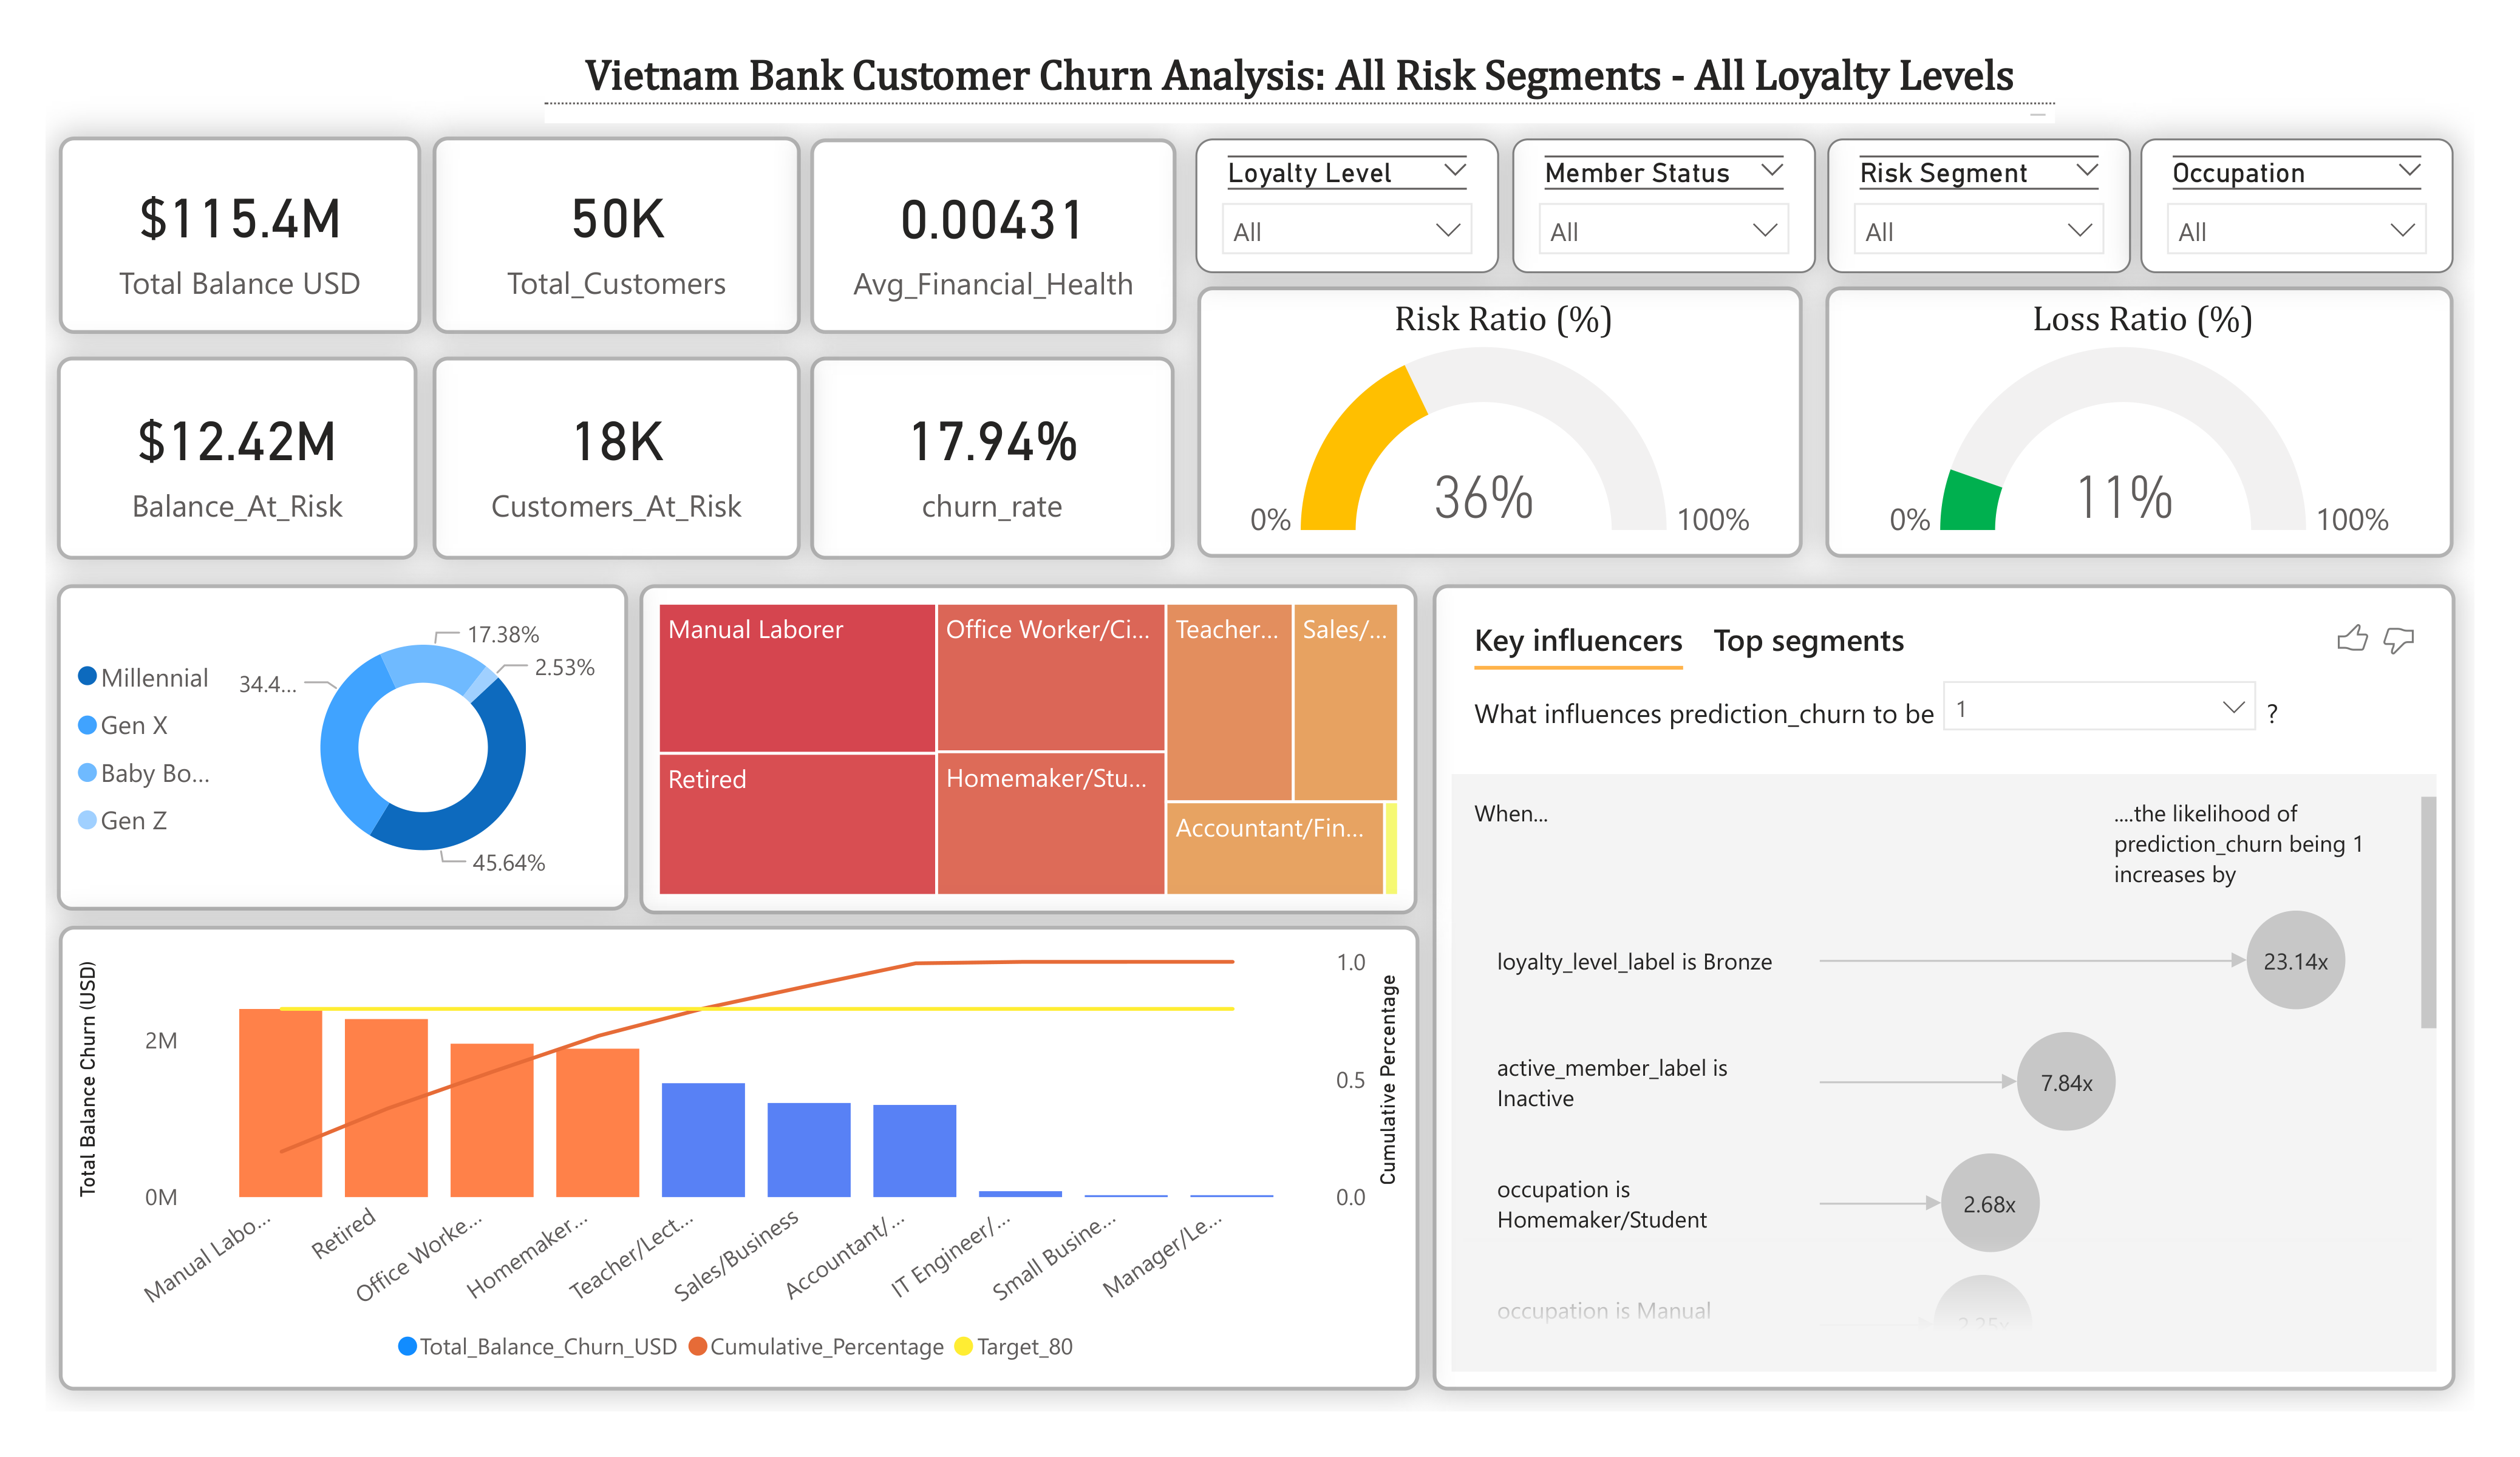

What the dashboard file says about the page in this screenshot:
{"tool":"powerbi","page":{"name":"Page 1","canvas":[1280,720],"ordinal":0},"visuals":[{"type":"card","fields":{"Values":["vietnam_bank_churn_prediction.churn_rate"]},"box":[403.1,164.4,191.9,106.2],"z":0},{"type":"card","fields":{"Values":["vietnam_bank_churn_prediction.High Priority Churn"]},"box":[204.4,48.1,193.1,103.8],"z":1000},{"type":"card","fields":{"Values":["vietnam_bank_churn_prediction.Total Balance USD"]},"box":[6.9,48.1,191.2,103.8],"z":2000},{"type":"card","fields":{"Values":["vietnam_bank_churn_prediction.Avg_Financial_Health"]},"box":[403.1,49.4,192.5,102.5],"z":3000},{"type":"card","fields":{"Values":["vietnam_bank_churn_prediction.Customers_At_Risk"]},"box":[204.4,164.4,193.1,106.2],"z":4000},{"type":"card","fields":{"Values":["vietnam_bank_churn_prediction.Balance_At_Risk"]},"box":[6.2,164.4,190,106.2],"z":5000},{"type":"gauge","title":"Loss Ratio (%)","fields":{"Y":["vietnam_bank_churn_prediction.Loss_Impact_Rate"]},"box":[938.3,126.7,330.8,143.3],"z":6000},{"type":"gauge","title":"Risk Ratio (%)","fields":{"Y":["vietnam_bank_churn_prediction.Risk_Ratio"]},"box":[606.9,126.9,319.2,143.1],"z":7000},{"type":"slicer","fields":{"Values":["vietnam_bank_churn_prediction.risk_segment_label"]},"box":[938.6,49.3,160,70.7],"z":8000},{"type":"slicer","fields":{"Values":["vietnam_bank_churn_prediction.active_member_label"]},"box":[772.9,49.3,160,70.7],"z":9000},{"type":"slicer","fields":{"Values":["vietnam_bank_churn_prediction.loyalty_level_label"]},"box":[606.4,49.3,160,70.7],"z":10000},{"type":"slicer","fields":{"Values":["vietnam_bank_churn_prediction.occupation"]},"box":[1104.3,49.3,164.3,70.7],"z":11000},{"type":"textbox","box":[262.5,2.5,796.2,38.8],"z":12000},{"type":"keyDriversVisual","fields":{"ExplainBy":["vietnam_bank_churn_prediction.recency_days","vietnam_bank_churn_prediction.financial_stability_index","vietnam_bank_churn_prediction.active_member_label","vietnam_bank_churn_prediction.occupation","vietnam_bank_churn_prediction.loyalty_level_label"],"Target":["vietnam_bank_churn_prediction.prediction_churn"]},"box":[731,284,539,425],"z":13000},{"type":"treemap","fields":{"Values":["vietnam_bank_churn_prediction.Balance_At_Risk"],"Group":["vietnam_bank_churn_prediction.occupation"]},"box":[313.3,284.4,410,173.3],"z":14000},{"type":"donutChart","fields":{"Category":["vietnam_bank_churn_prediction.age_group"],"Y":["vietnam_bank_churn_prediction.Customers_At_Risk"]},"box":[6.4,284.3,300.7,172.1],"z":15000},{"type":"lineClusteredColumnComboChart","fields":{"Category":["vietnam_bank_churn_prediction.occupation"],"Y":["vietnam_bank_churn_prediction.Total_Balance_Churn_USD"],"Y2":["vietnam_bank_churn_prediction.Cumulative_Percentage","vietnam_bank_churn_prediction.Target_80"]},"box":[7.3,464,716.7,244.7],"z":16000}]}

Visuals, with their boxes in screenshot pixels (x1, y1, x2, y2):
card - vietnam_bank_churn_prediction.churn_rate: (814, 360, 1173, 559)
card - vietnam_bank_churn_prediction.High Priority Churn: (442, 143, 803, 337)
card - vietnam_bank_churn_prediction.Total Balance USD: (72, 143, 430, 337)
card - vietnam_bank_churn_prediction.Avg_Financial_Health: (814, 145, 1174, 337)
card - vietnam_bank_churn_prediction.Customers_At_Risk: (442, 360, 803, 559)
card - vietnam_bank_churn_prediction.Balance_At_Risk: (70, 360, 426, 559)
"Loss Ratio (%)" gauge: (1816, 290, 2436, 558)
"Risk Ratio (%)" gauge: (1196, 290, 1793, 558)
slicer - vietnam_bank_churn_prediction.risk_segment_label: (1817, 145, 2116, 277)
slicer - vietnam_bank_churn_prediction.active_member_label: (1507, 145, 1806, 277)
slicer - vietnam_bank_churn_prediction.loyalty_level_label: (1194, 145, 1494, 277)
slicer - vietnam_bank_churn_prediction.occupation: (2127, 145, 2435, 277)
textbox: (551, 57, 2042, 130)
keyDriversVisual - vietnam_bank_churn_prediction.recency_days x vietnam_bank_churn_prediction.financial_stability_index: (1428, 584, 2437, 1380)
treemap - vietnam_bank_churn_prediction.Balance_At_Risk x vietnam_bank_churn_prediction.occupation: (645, 585, 1414, 909)
donutChart - vietnam_bank_churn_prediction.age_group x vietnam_bank_churn_prediction.Customers_At_Risk: (71, 585, 634, 907)
lineClusteredColumnComboChart - vietnam_bank_churn_prediction.occupation x vietnam_bank_churn_prediction.Total_Balance_Churn_USD: (73, 921, 1415, 1379)
